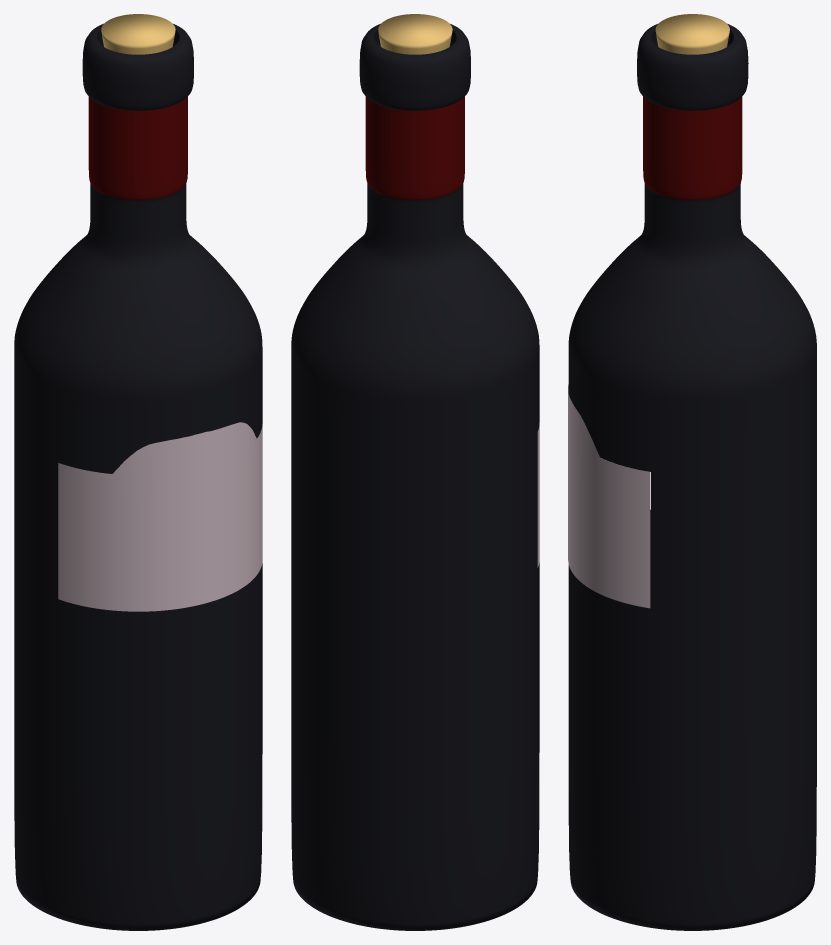
The model's file is WineBottle.dae.
The picture shows the model from 3 angles, left to right: view 1: azimuth 30°, elevation 25°; view 2: azimuth 150°, elevation 25°; view 3: azimuth 270°, elevation 25°; orthographic projection.
Parts seen in each view (by area): view 1: Cylinder_003, Cylinder_002, Cylinder_005, Cylinder_004, Cylinder_001; view 2: Cylinder_003, Cylinder_005, Cylinder_004, Cylinder_001; view 3: Cylinder_003, Cylinder_002, Cylinder_005, Cylinder_004, Cylinder_001.
Boxes of the visible parts, box(x1,y1,x2,y2) form: Cylinder_003: box(14, 183, 262, 930); Cylinder_002: box(58, 422, 262, 611); Cylinder_005: box(88, 96, 187, 200); Cylinder_004: box(82, 23, 193, 110); Cylinder_001: box(101, 14, 175, 54); Cylinder_003: box(291, 183, 539, 930); Cylinder_005: box(365, 96, 464, 200); Cylinder_004: box(359, 23, 470, 110); Cylinder_001: box(378, 14, 452, 54); Cylinder_003: box(568, 183, 816, 930); Cylinder_002: box(568, 384, 650, 608); Cylinder_005: box(643, 96, 742, 200); Cylinder_004: box(637, 24, 748, 110); Cylinder_001: box(655, 14, 729, 54).
Bounding box in the file's own units: 1.74 × 1.74 × 6.55.
